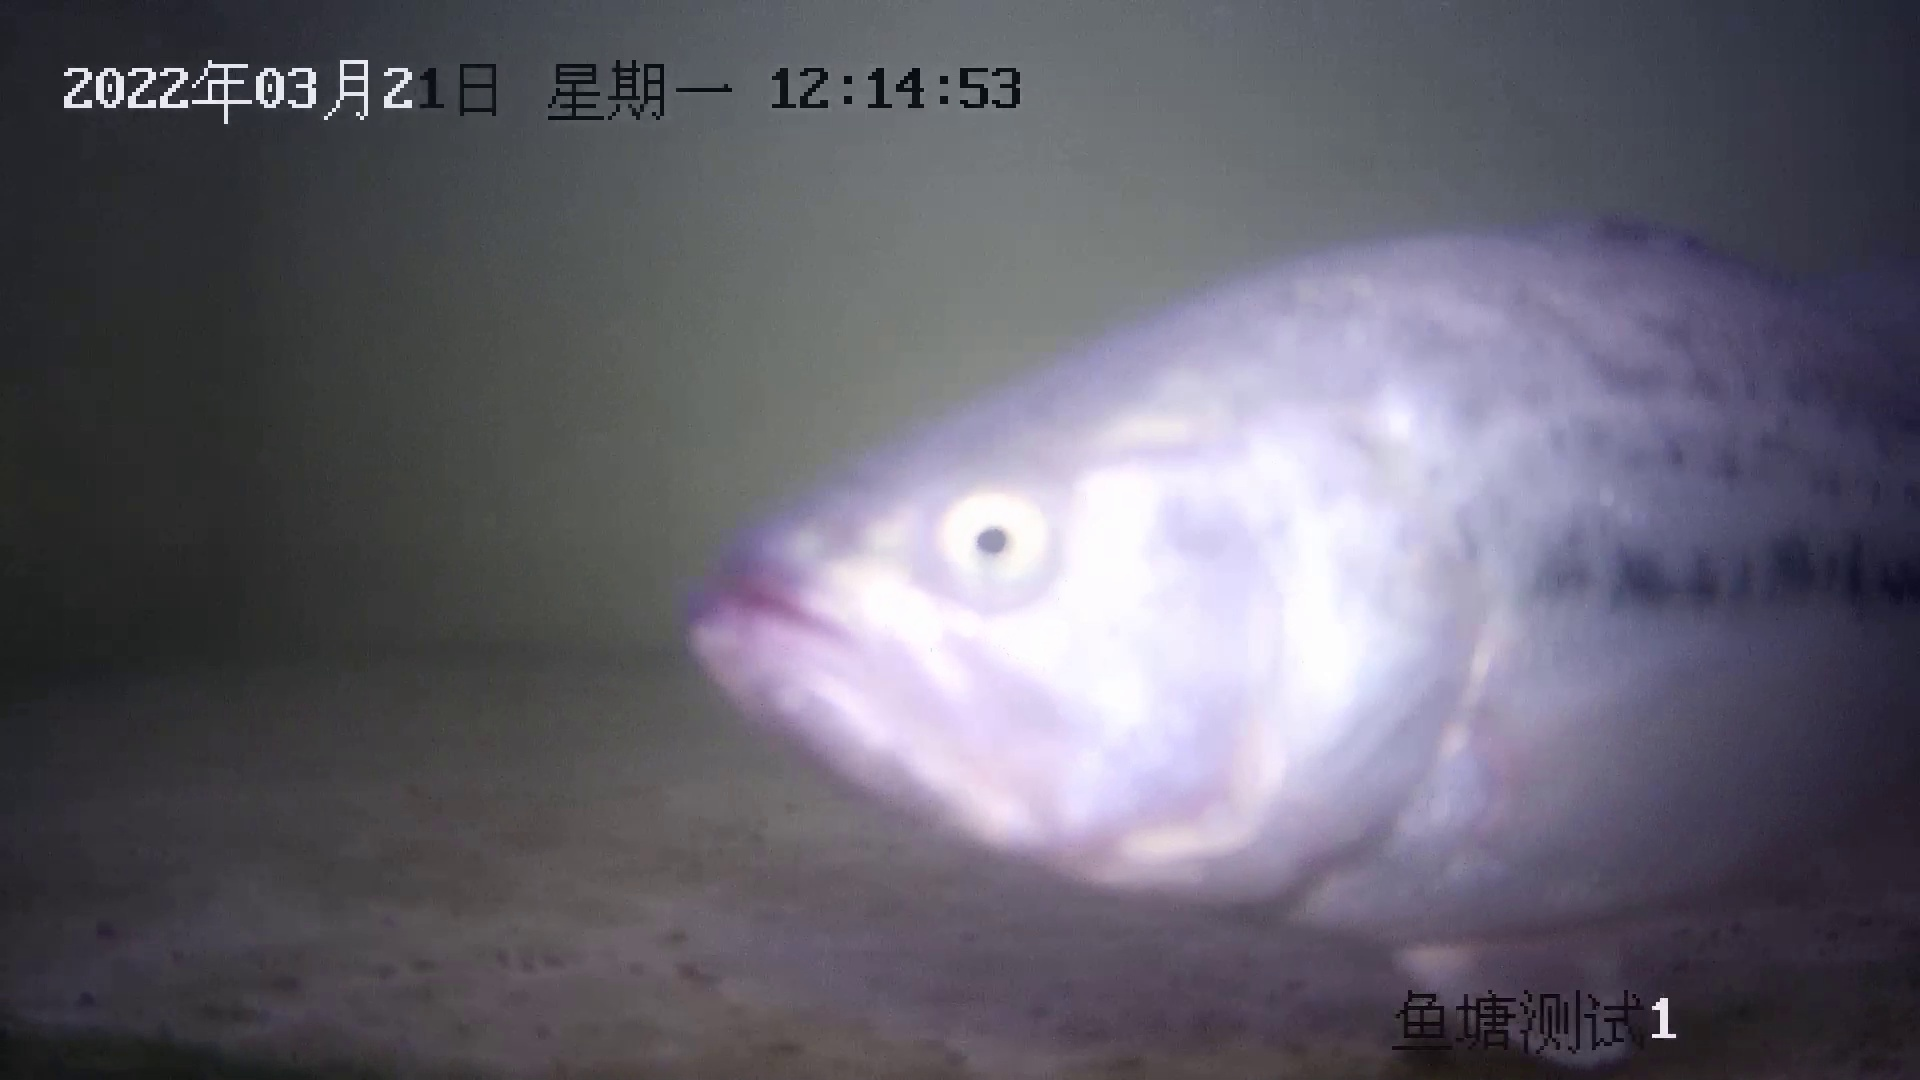fry: (676, 208, 1920, 1071)
